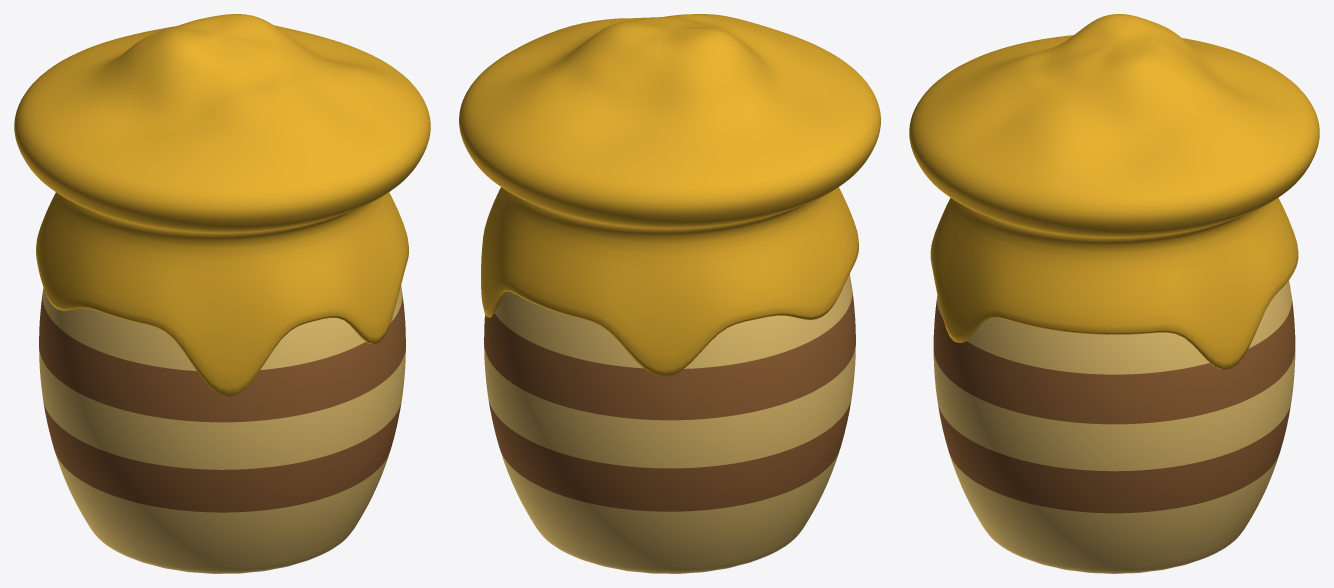
Rendered from Honey_pot.fbx.
3 renders of one model, left to right at view 1: azimuth 30°, elevation 25°; view 2: azimuth 150°, elevation 25°; view 3: azimuth 270°, elevation 25°, orthographic. The views are drawn at different scales.
Parts seen in each view (by area): view 1: Sphere.001, Sphere; view 2: Sphere.001, Sphere; view 3: Sphere.001, Sphere.
Part boxes in pixels (x1,y1,x2,y2): Sphere.001: (14,14,430,396); Sphere: (39,285,405,573); Sphere.001: (459,14,880,376); Sphere: (484,274,855,573); Sphere.001: (909,14,1319,369); Sphere: (933,280,1295,573).
Size of the model in its own units: 224 by 293 by 224.
